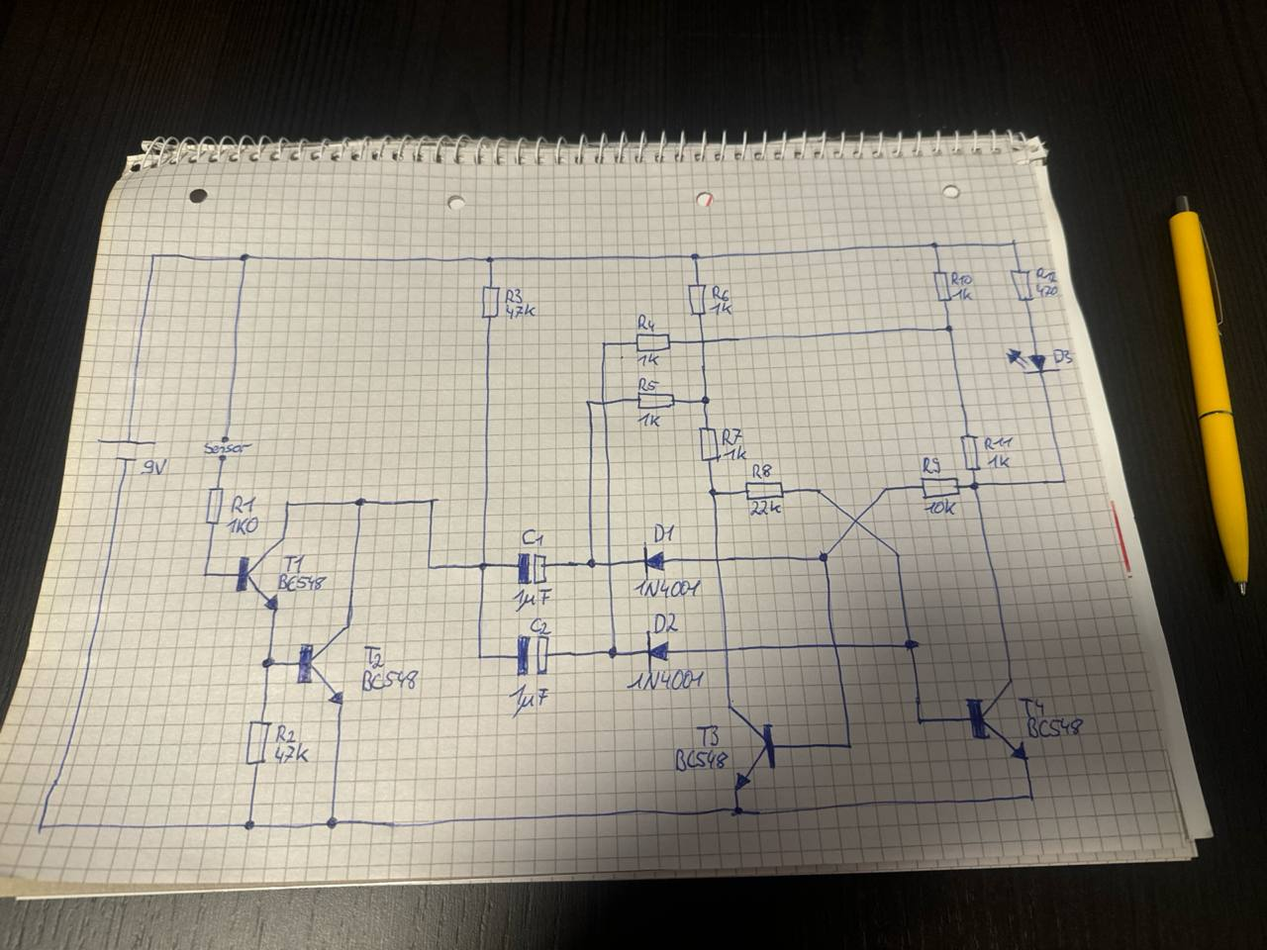capacitor.polarized: (514, 632, 551, 678), (515, 551, 547, 588)
crossover: (604, 558, 616, 571), (711, 554, 723, 566), (828, 639, 840, 651), (697, 334, 709, 346), (721, 643, 733, 655), (850, 516, 863, 527), (598, 398, 609, 409)
diode: (639, 541, 666, 579), (645, 632, 669, 666)
diode.light_emitting: (1004, 346, 1063, 376)
junction: (903, 635, 919, 651), (727, 803, 744, 818), (816, 548, 831, 564), (259, 655, 275, 669), (324, 814, 338, 830), (242, 817, 257, 831), (352, 495, 366, 509), (605, 645, 619, 659), (698, 393, 712, 407), (584, 555, 598, 569), (1023, 789, 1037, 803), (476, 558, 490, 572), (688, 250, 702, 262), (967, 479, 981, 491), (913, 712, 925, 726), (34, 820, 46, 834), (842, 739, 854, 751), (423, 560, 435, 572), (706, 486, 718, 498), (812, 485, 824, 497), (239, 251, 250, 263), (426, 496, 438, 506), (928, 239, 940, 249), (484, 254, 496, 264), (880, 483, 890, 495), (942, 324, 954, 333), (200, 569, 210, 579), (1059, 475, 1069, 485), (474, 652, 484, 662), (599, 338, 609, 348), (583, 397, 593, 407), (282, 499, 292, 509), (147, 250, 157, 260), (894, 549, 904, 559), (1008, 238, 1018, 246)
resistor: (243, 718, 272, 766), (919, 474, 960, 500), (202, 485, 226, 526), (743, 479, 785, 501), (959, 432, 983, 470), (698, 425, 722, 463), (479, 282, 503, 320), (1009, 269, 1034, 303), (635, 390, 675, 410), (634, 332, 672, 353), (932, 268, 954, 304), (685, 281, 707, 317)
text: (622, 668, 707, 692), (634, 576, 702, 599), (359, 668, 421, 693), (1025, 715, 1085, 740), (671, 748, 731, 772), (508, 683, 549, 716), (276, 571, 327, 593), (512, 586, 551, 612), (274, 741, 310, 764), (924, 497, 959, 517), (228, 514, 261, 535), (747, 499, 785, 517), (695, 722, 721, 748), (203, 441, 253, 454), (232, 493, 259, 517), (1016, 696, 1045, 718), (653, 612, 680, 635), (650, 522, 676, 545), (141, 456, 170, 476), (362, 644, 385, 669), (281, 552, 306, 574), (273, 722, 297, 744), (506, 303, 537, 319), (984, 434, 1014, 450), (637, 412, 665, 429), (749, 461, 775, 479), (1050, 347, 1076, 365), (520, 527, 543, 547), (722, 445, 748, 462), (721, 427, 743, 447), (636, 374, 660, 392), (948, 271, 972, 289), (920, 455, 941, 475), (710, 283, 731, 303), (529, 617, 551, 636), (709, 302, 734, 318), (987, 453, 1011, 469), (637, 312, 656, 332), (636, 352, 661, 367), (1035, 283, 1059, 298), (1035, 267, 1057, 283), (504, 288, 524, 305), (952, 289, 975, 301)
transistor.bjt: (965, 674, 1030, 759), (724, 702, 777, 791), (296, 623, 352, 707), (238, 535, 287, 609)
voltage.battery: (94, 437, 157, 462)
